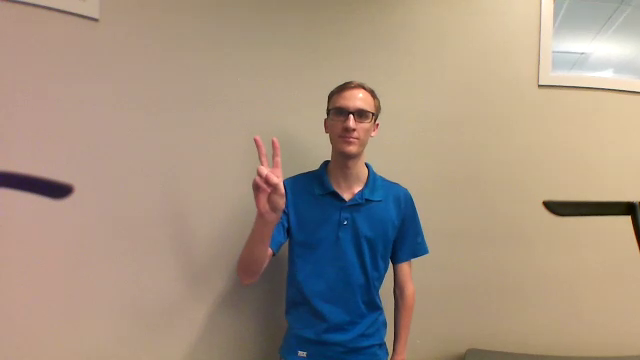peace: (244, 133, 290, 224)
